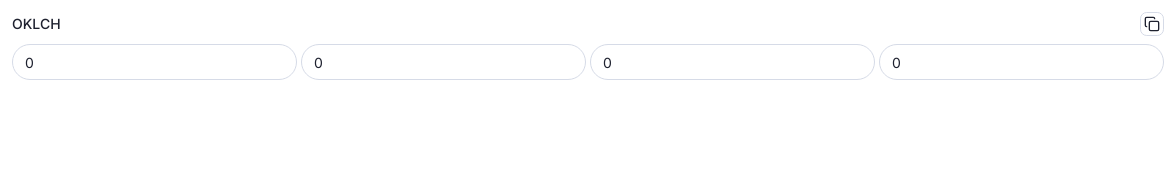
Test: <OkColorInput /> › rejects invalid OKLCH hue values
Replace the text in the number field with test id "oklch-input-h" with "361": point(732, 62) [590, 44, 875, 80]
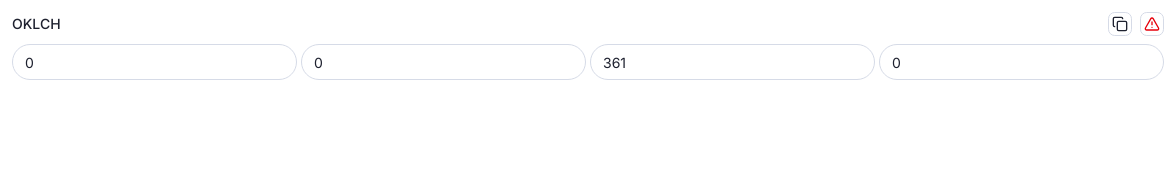
Now the button with test id "hex-error-btn" is shown, box [1140, 12, 1164, 36]
